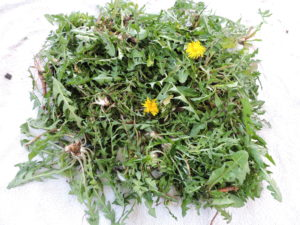dandelion: (183, 42, 209, 61), (147, 100, 159, 112)
